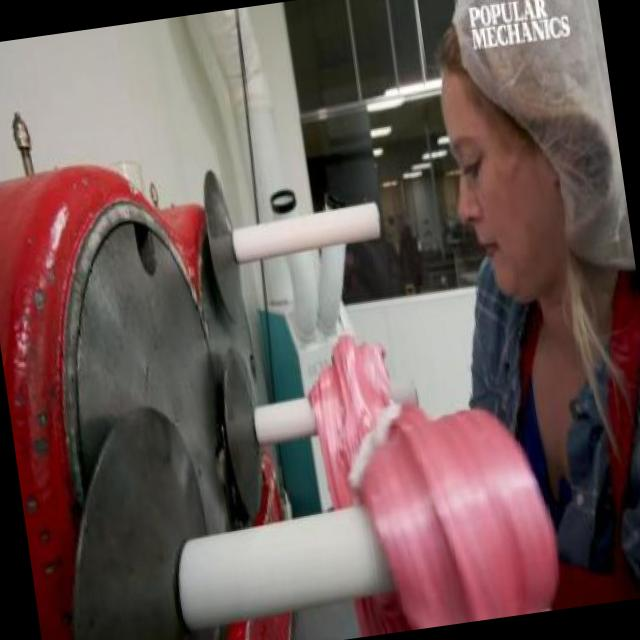hairnet: (450, 0, 611, 110)
